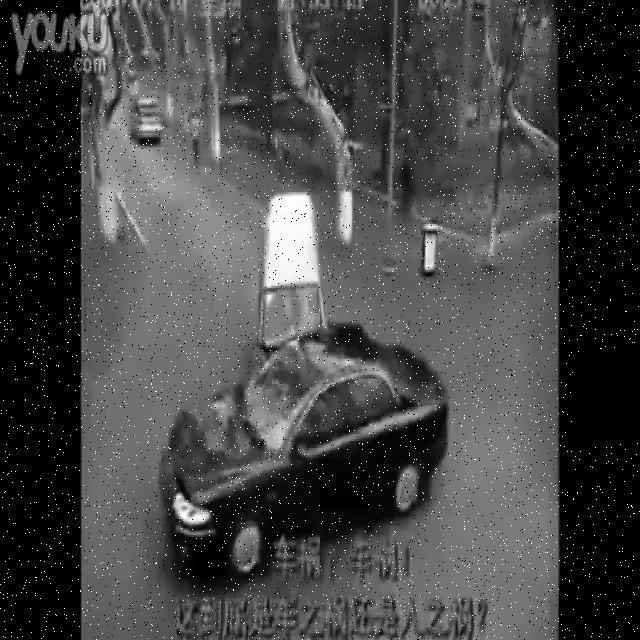accident: (155, 184, 452, 581)
vehicle: (125, 93, 165, 150)
